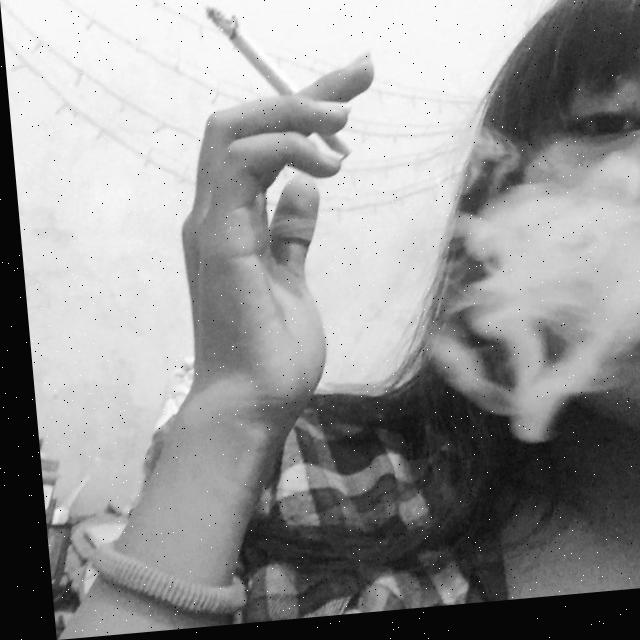cigarette: (203, 0, 349, 173)
